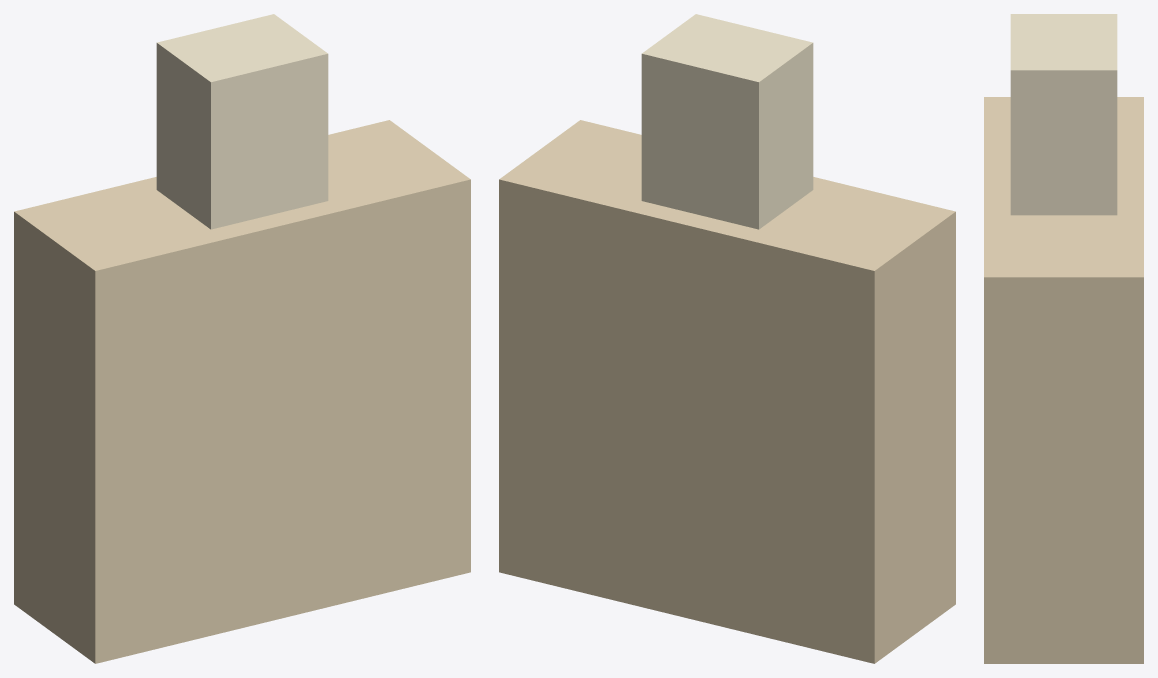
Rendered from build.gltf.
3 renders of one model, left to right at view 1: azimuth 30°, elevation 25°; view 2: azimuth 150°, elevation 25°; view 3: azimuth 270°, elevation 25°, orthographic.
Size of the model in its own units: 0.8 by 1.1 by 0.3.
